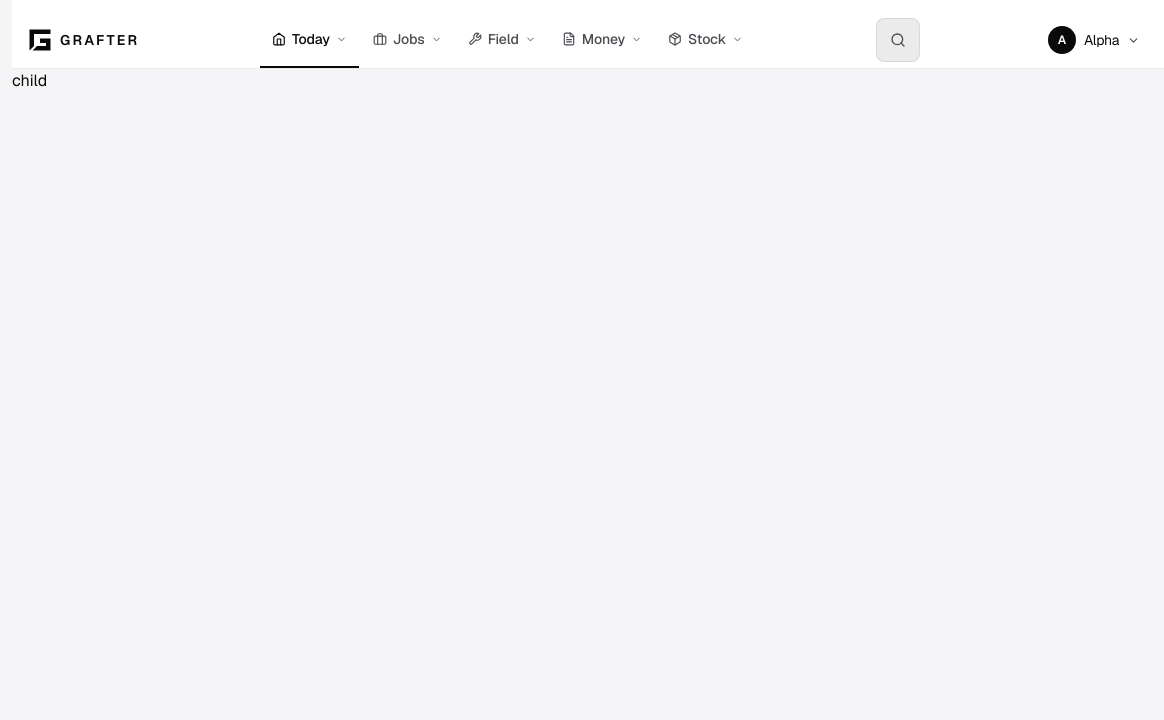
Scenario: M45 to M48 UI gates › G04-G09 operator sees the 3 AI links in the avatar menu and the More tab
Later steps or results of the test are not shown.
Click the button "A Alpha": {"x": 1094, "y": 40} x1=1040 y1=18 x2=1148 y2=62
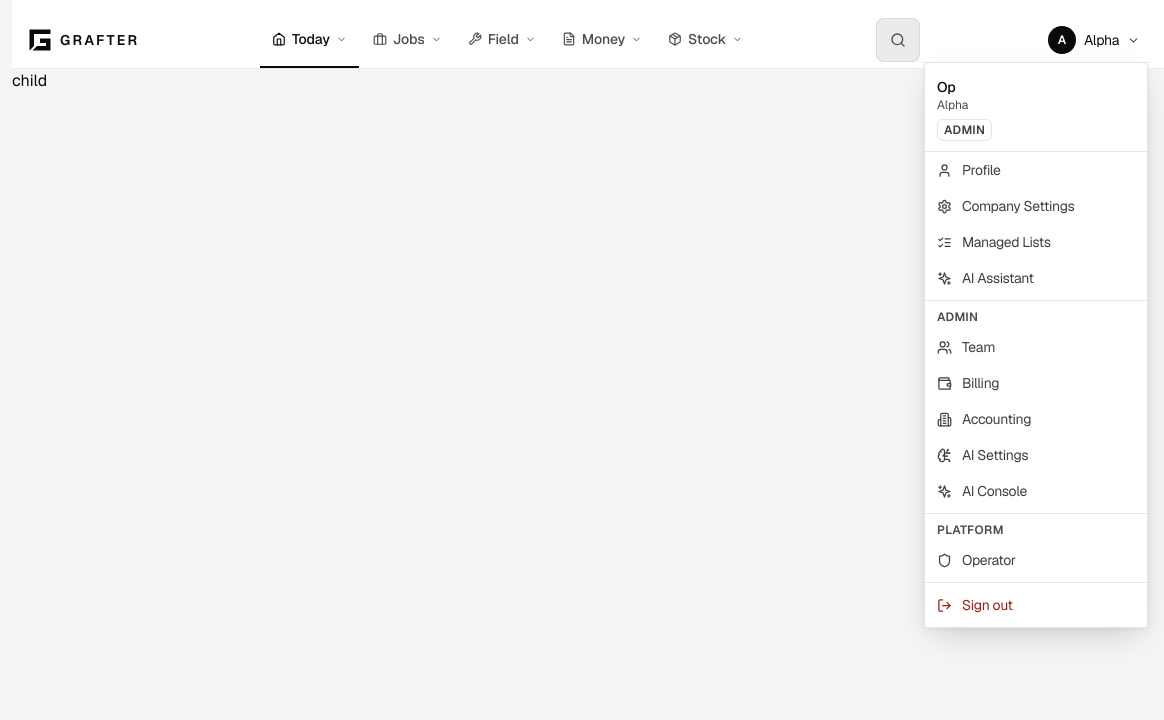
Expected: the text "AI Settings" is shown, x1=937 y1=446 x2=1028 y2=464
Expected: the text "AI Assistant" is shown, x1=937 y1=269 x2=1034 y2=287
Expected: the text "AI Console" is shown, x1=937 y1=482 x2=1027 y2=500
